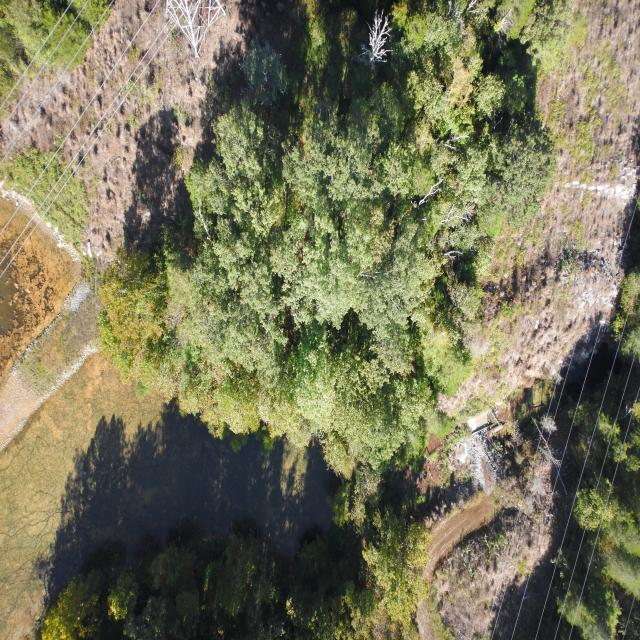Area of Interest: (119, 15, 541, 452), (56, 507, 418, 624), (597, 297, 640, 618)
